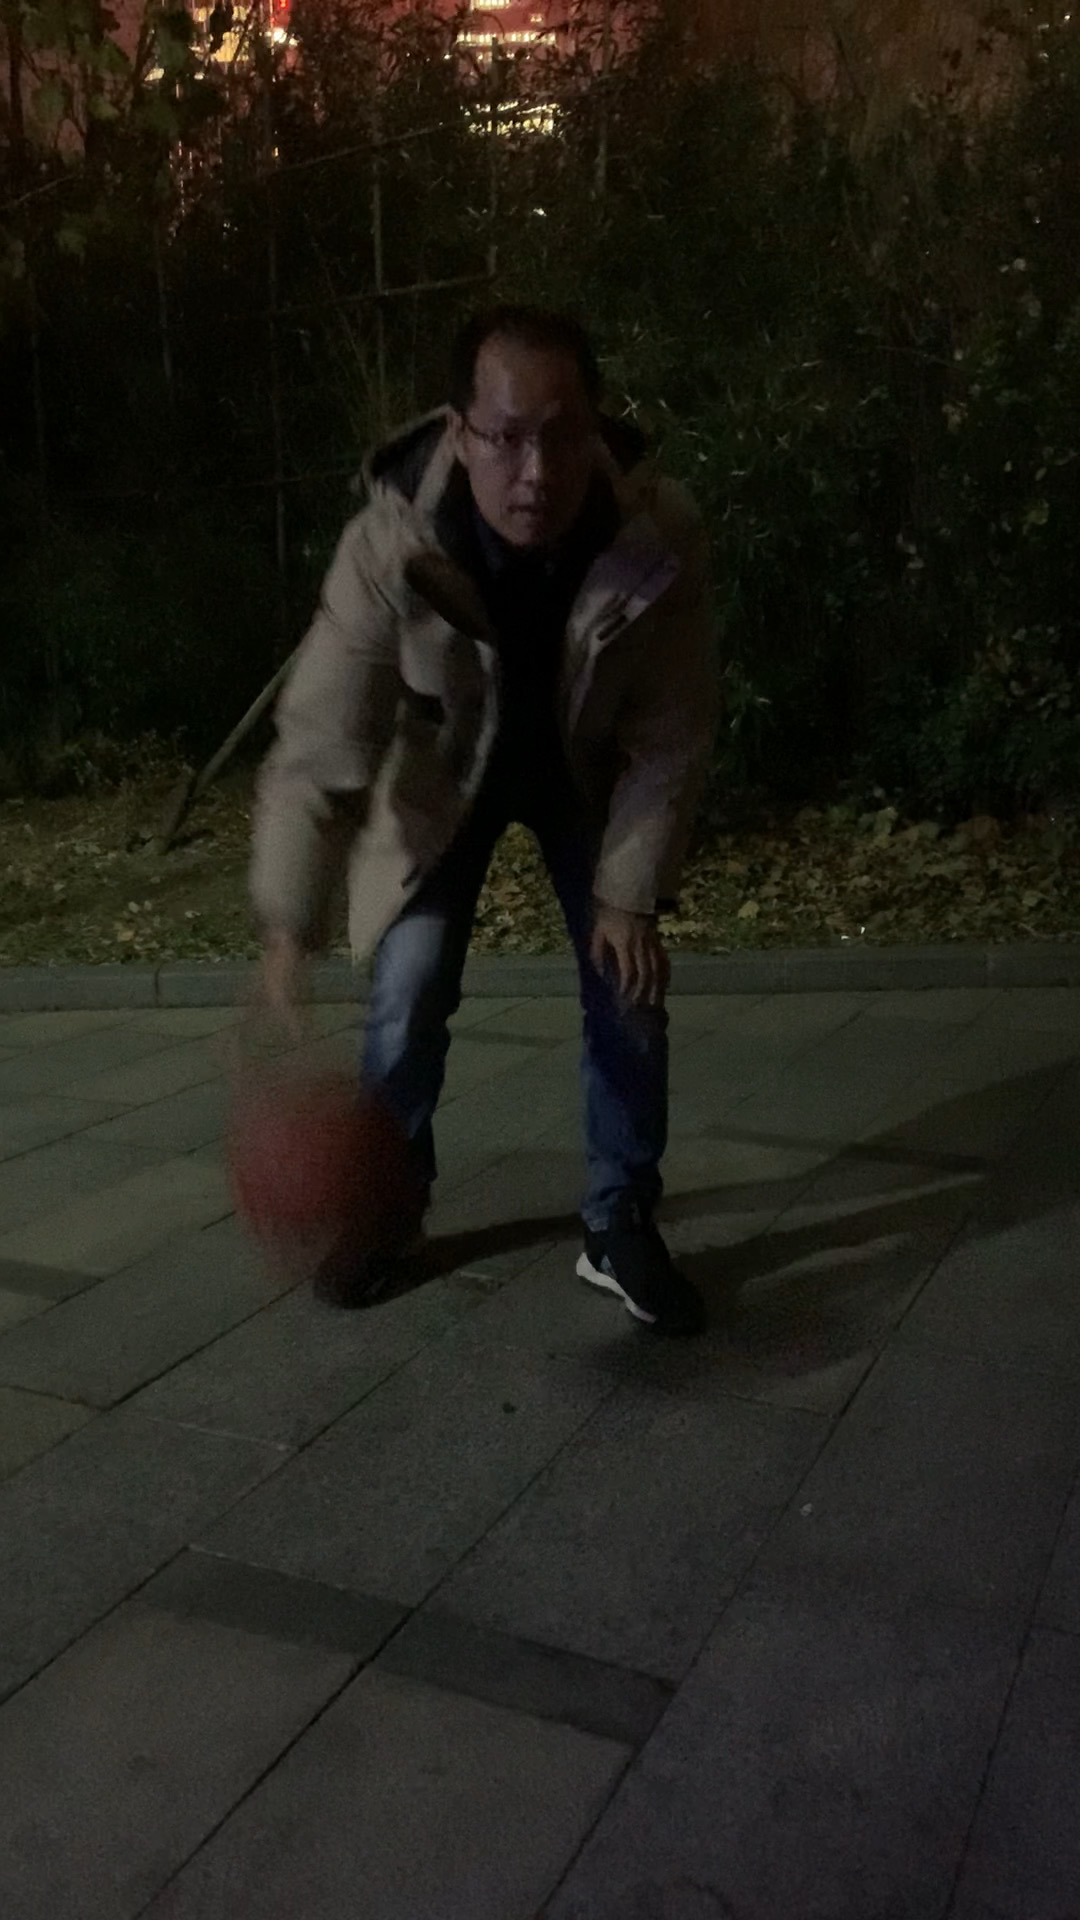ball: (232, 1059, 434, 1284)
